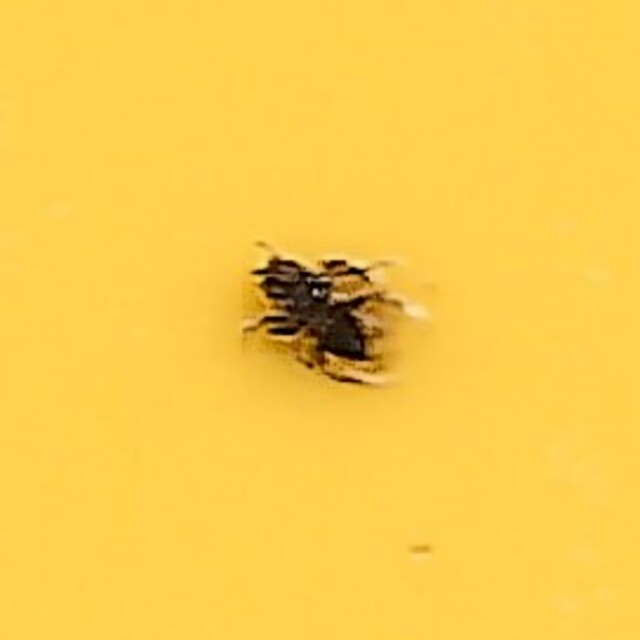Brachycera: (235, 234, 405, 406)
